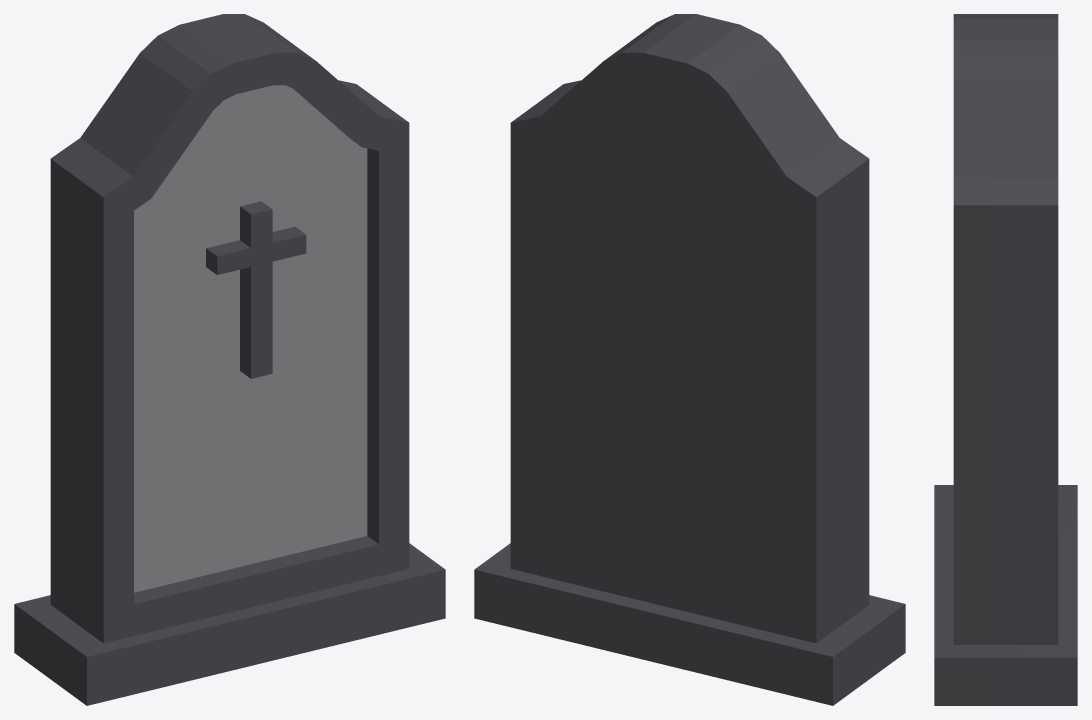
Rendered from TombStone05.glb.
The picture shows the model from 3 angles, left to right: view 1: azimuth 30°, elevation 25°; view 2: azimuth 150°, elevation 25°; view 3: azimuth 270°, elevation 25°; orthographic projection.
Visible parts, largest first — view 1: TombStone05; view 2: TombStone05; view 3: TombStone05.
Part boxes in pixels (bbox=[...]): TombStone05: bbox=[14, 14, 445, 705]; TombStone05: bbox=[474, 14, 905, 705]; TombStone05: bbox=[934, 14, 1077, 705].
Size of what is drawn, in the model's own units: 1.07 by 1.71 by 0.3753.
Materials: 1 (1 with a texture image).
